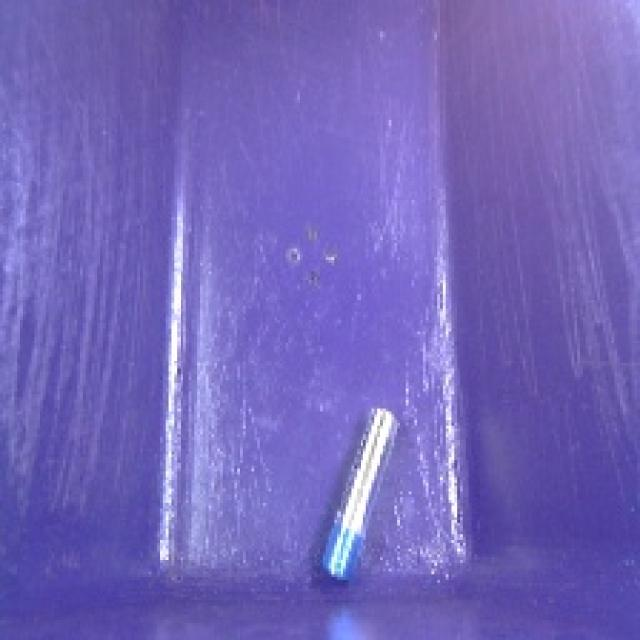battery: (308, 395, 408, 583)
